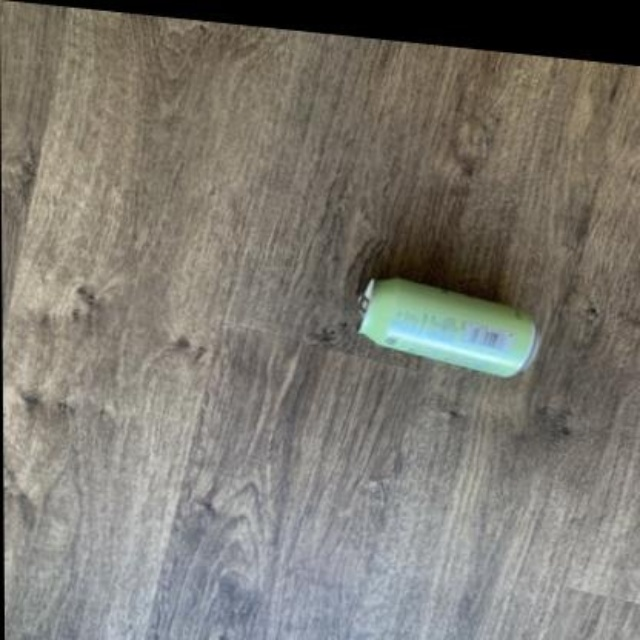trash: (358, 278, 537, 375)
